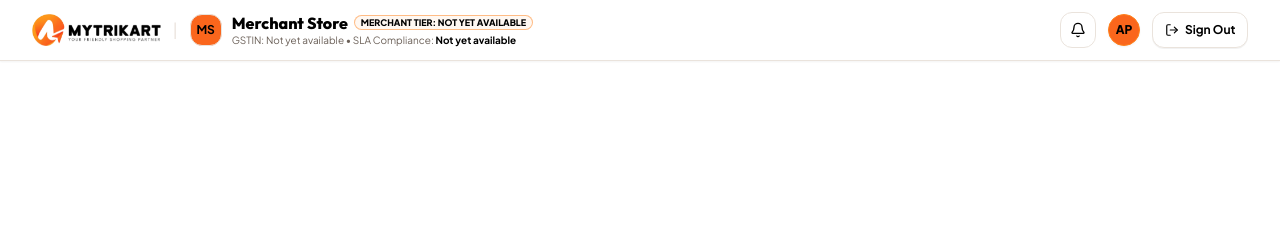
Test: SellerDashboardTopBar Alerts Wiring Suite › 1. hides bell badge pill when active alerts count is 0 and shows "No active store alerts" in dropdown
The image size is (1280, 230).
# Open notification dropdown
Click the button named "open notifications": (1078, 30) top-left (1060, 12), bottom-right (1096, 48)
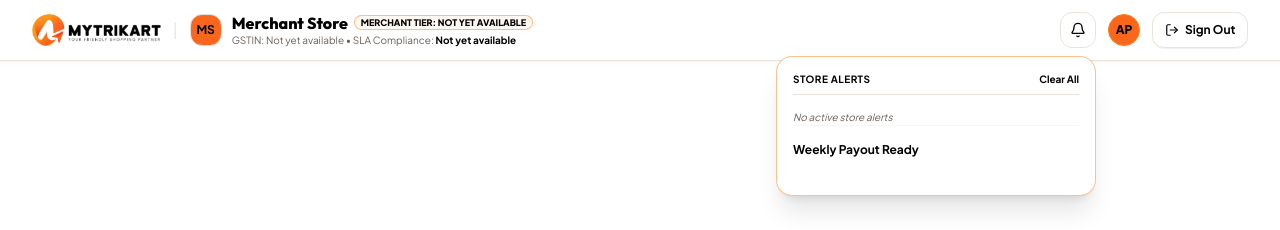
Check: the text "No active store alerts" is shown, box top-left (792, 111), bottom-right (892, 123)
Check: the text "Store Alerts" is shown, box top-left (792, 73), bottom-right (870, 86)
Check: the heading "Weekly Payout Ready" is shown, box top-left (792, 142), bottom-right (918, 157)
